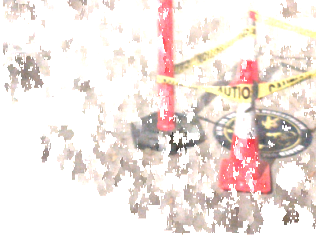Obstacle: (132, 2, 315, 195)
